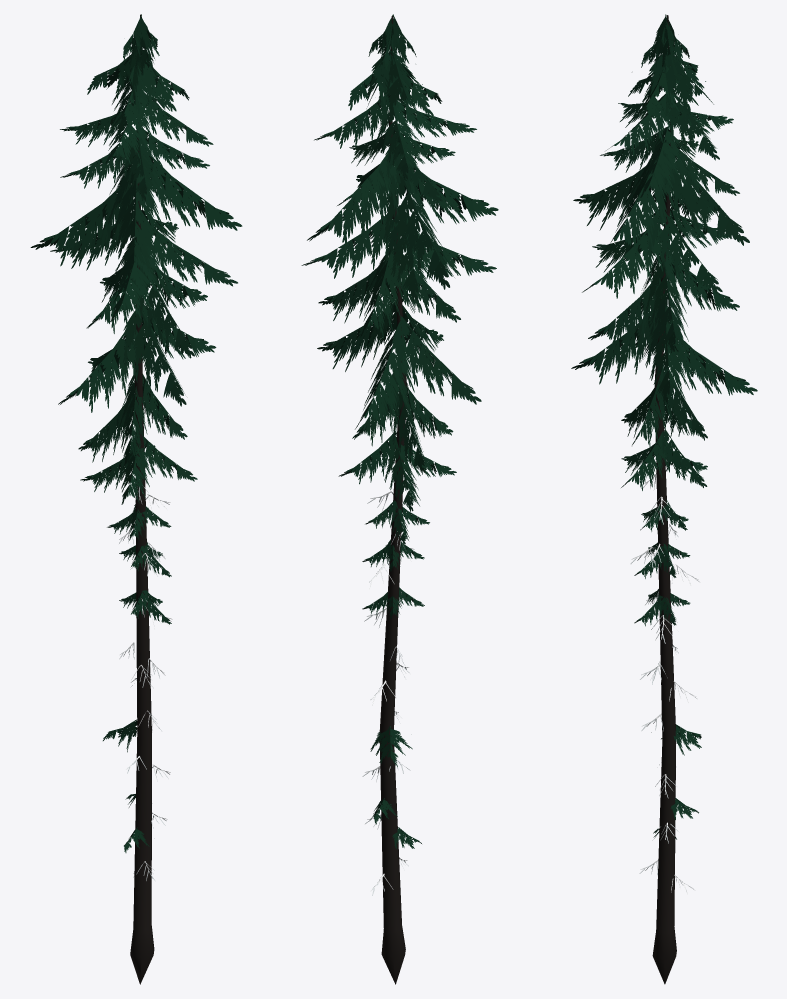
Rendered from conifer.glb.
The picture shows the model from 3 angles, left to right: view 1: azimuth 30°, elevation 25°; view 2: azimuth 150°, elevation 25°; view 3: azimuth 270°, elevation 25°; orthographic projection.
Visible parts, largest first — view 1: Object_21, Object_20, Object_22; view 2: Object_21, Object_20, Object_22; view 3: Object_21, Object_20, Object_22.
Boxes of the visible parts, x1=… form: Object_21: x1=30, y1=14, x2=242, y2=852; Object_20: x1=130, y1=14, x2=154, y2=984; Object_22: x1=119, y1=486, x2=172, y2=880; Object_21: x1=301, y1=14, x2=498, y2=848; Object_20: x1=379, y1=16, x2=406, y2=984; Object_22: x1=362, y1=476, x2=416, y2=895; Object_21: x1=571, y1=14, x2=757, y2=839; Object_20: x1=652, y1=15, x2=676, y2=984; Object_22: x1=630, y1=473, x2=699, y2=894.
Size of the model in its own units: 6.7 by 31.88 by 6.7.
Materials: 3 (2 with a texture image).
